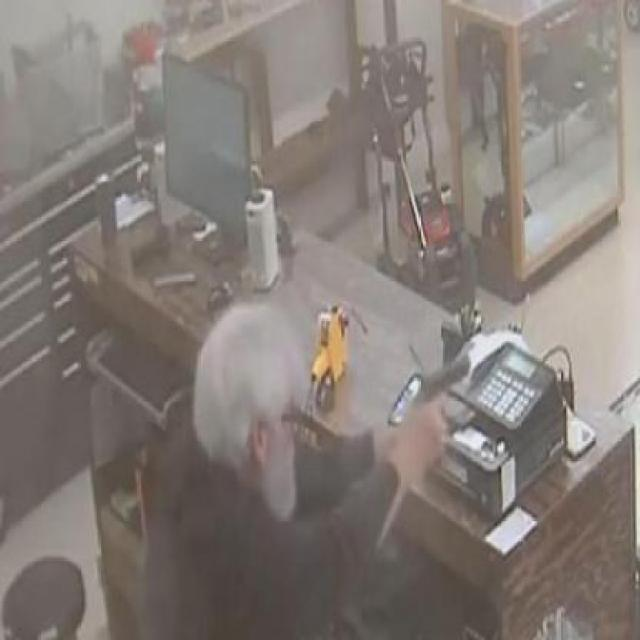weapon: (413, 344, 472, 462)
